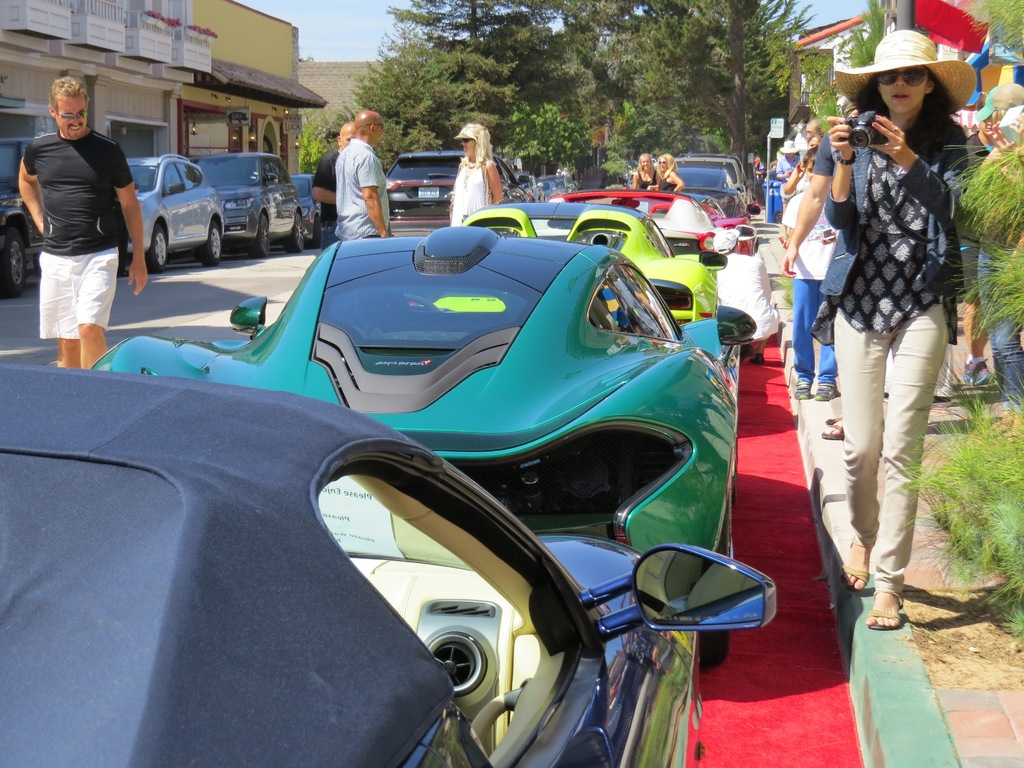Car: (0, 361, 775, 767), (408, 151, 762, 323), (189, 136, 302, 259), (125, 141, 225, 270), (383, 147, 524, 235), (0, 133, 44, 298), (289, 174, 322, 251), (538, 172, 575, 195), (518, 176, 535, 202), (542, 179, 556, 198), (523, 182, 533, 197), (575, 179, 583, 190)
